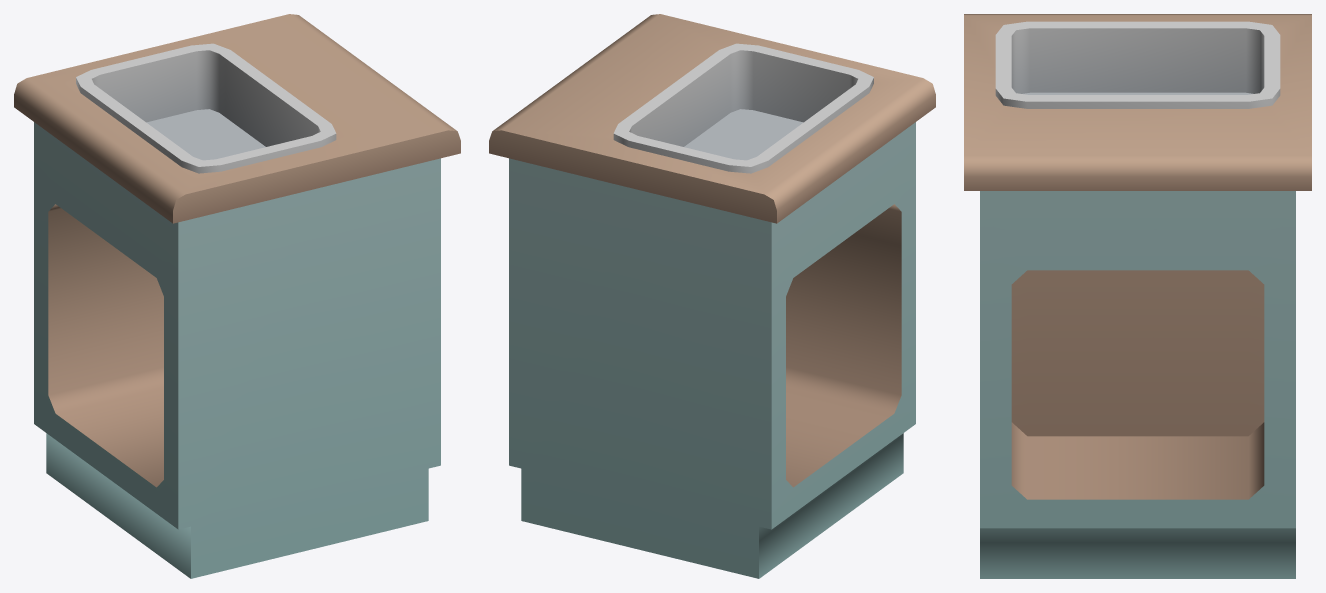
Rendered from cabinet-decorative-island-sink.glb.
The picture shows the model from 3 angles, left to right: view 1: azimuth 30°, elevation 25°; view 2: azimuth 150°, elevation 25°; view 3: azimuth 270°, elevation 25°; orthographic projection. The views are drawn at different scales.
Visible parts, largest first — view 1: cabinet-decorative-island-sink; view 2: cabinet-decorative-island-sink; view 3: cabinet-decorative-island-sink.
Part boxes in pixels (bbox=[...]): cabinet-decorative-island-sink: bbox=[14, 14, 460, 578]; cabinet-decorative-island-sink: bbox=[489, 14, 935, 578]; cabinet-decorative-island-sink: bbox=[964, 14, 1311, 578].
Bounding box in the file's own units: 0.575 × 0.7625 × 0.55.
